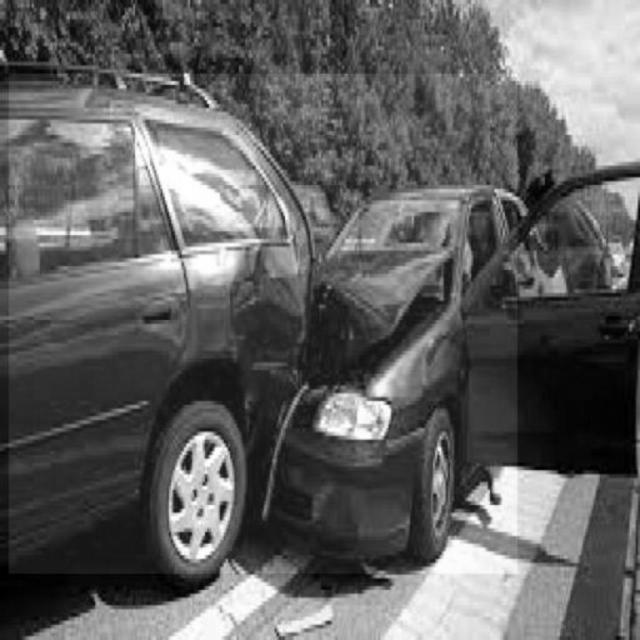accident: (9, 74, 517, 574)
